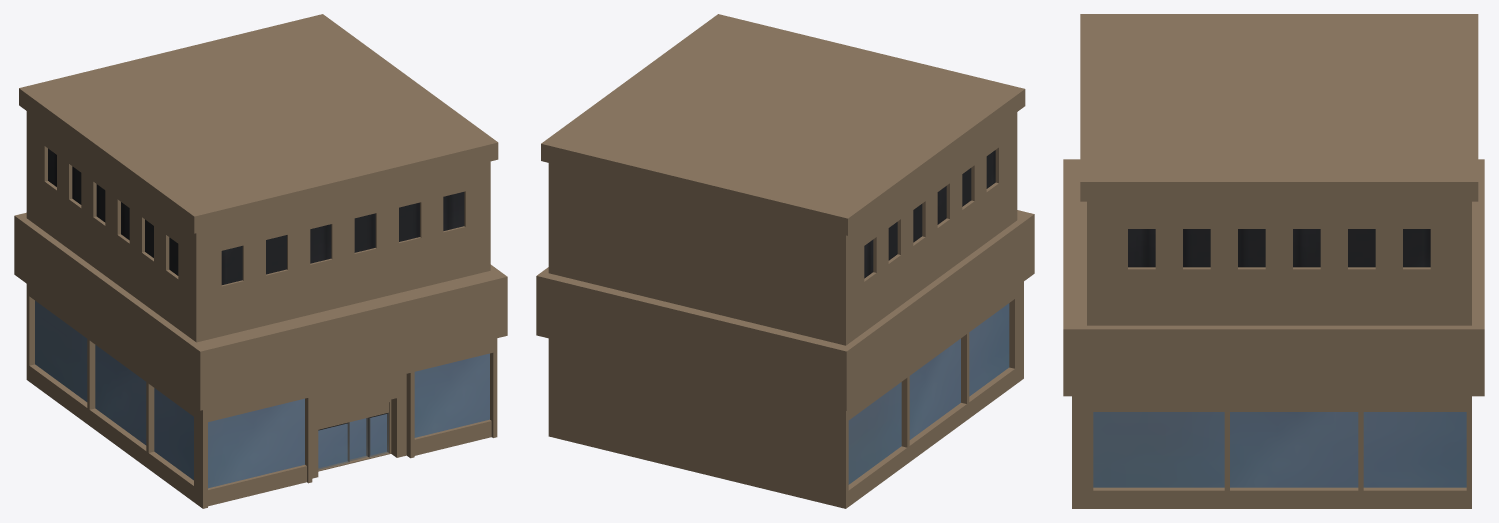
File: Bld_Building_BA.fbx
3 views of the same model, side by side, from view 1: azimuth 30°, elevation 25°; view 2: azimuth 150°, elevation 25°; view 3: azimuth 270°, elevation 25° (orthographic). The views are drawn at different scales.
Visible parts, largest first — view 1: Bld_Building_BA; view 2: Bld_Building_BA; view 3: Bld_Building_BA.
Part boxes in pixels (box(x1,y1,x2,y2)): Bld_Building_BA: box(14, 14, 507, 508); Bld_Building_BA: box(536, 14, 1034, 508); Bld_Building_BA: box(1063, 14, 1484, 508).
Size of the model in its own units: 1880 by 1700 by 1970.
